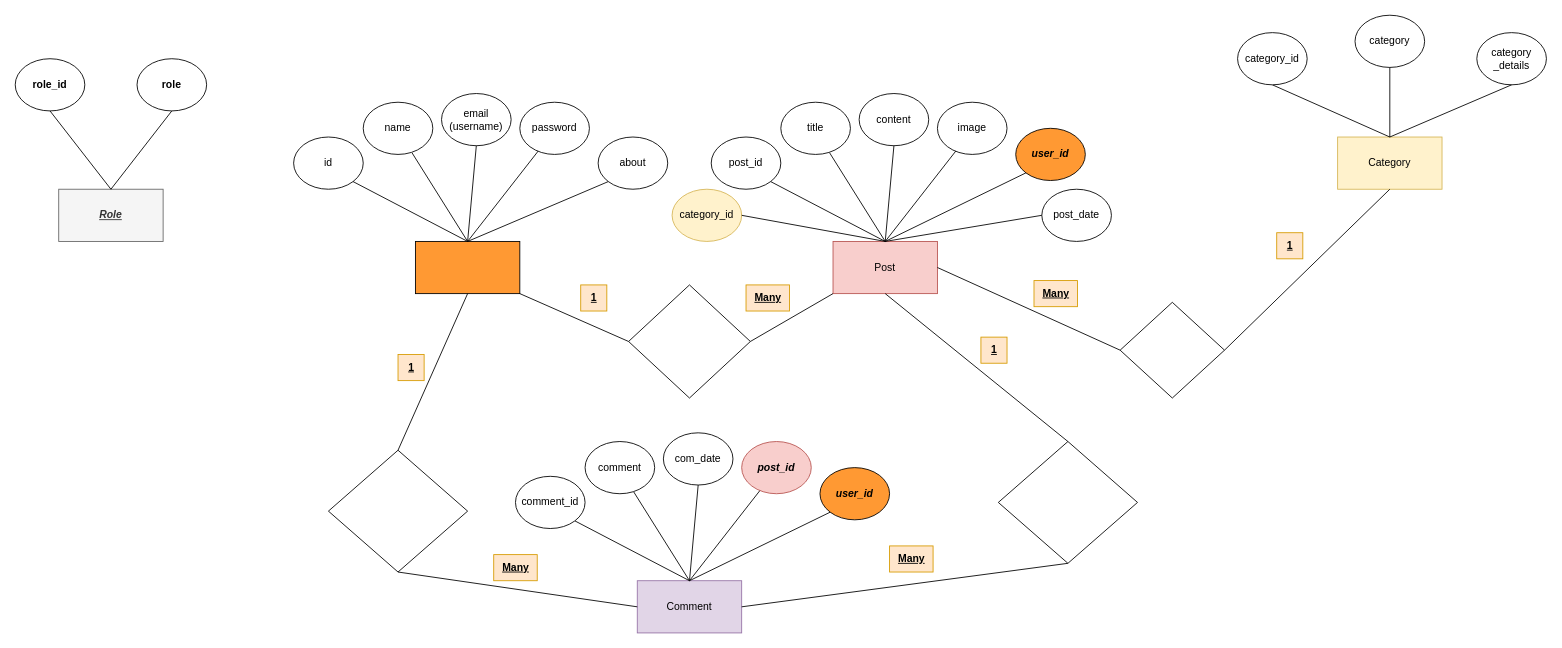
Some shapes in this 1562 by 648 pixel diagram are drawn without their labels. The centre of each missing label's shape, as x and y in pixels:
"Many post has one category" belongs at (x=1172, y=349).
"One user can post multiple blogs" belongs at (x=689, y=341).
"One user has multiple comments" belongs at (x=398, y=510).
"Post have multiple comments" belongs at (x=1067, y=502).
"User" belongs at (x=467, y=267).
